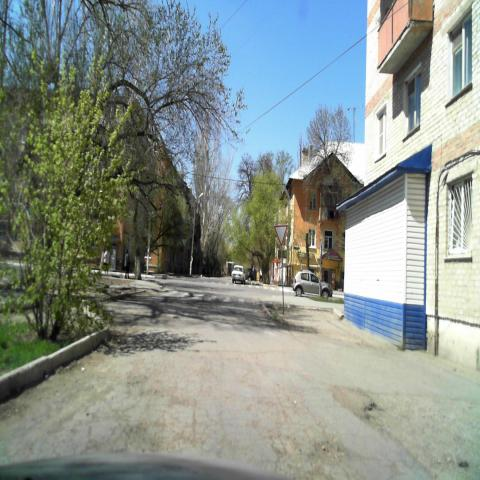2_4: (274, 224, 288, 246)
